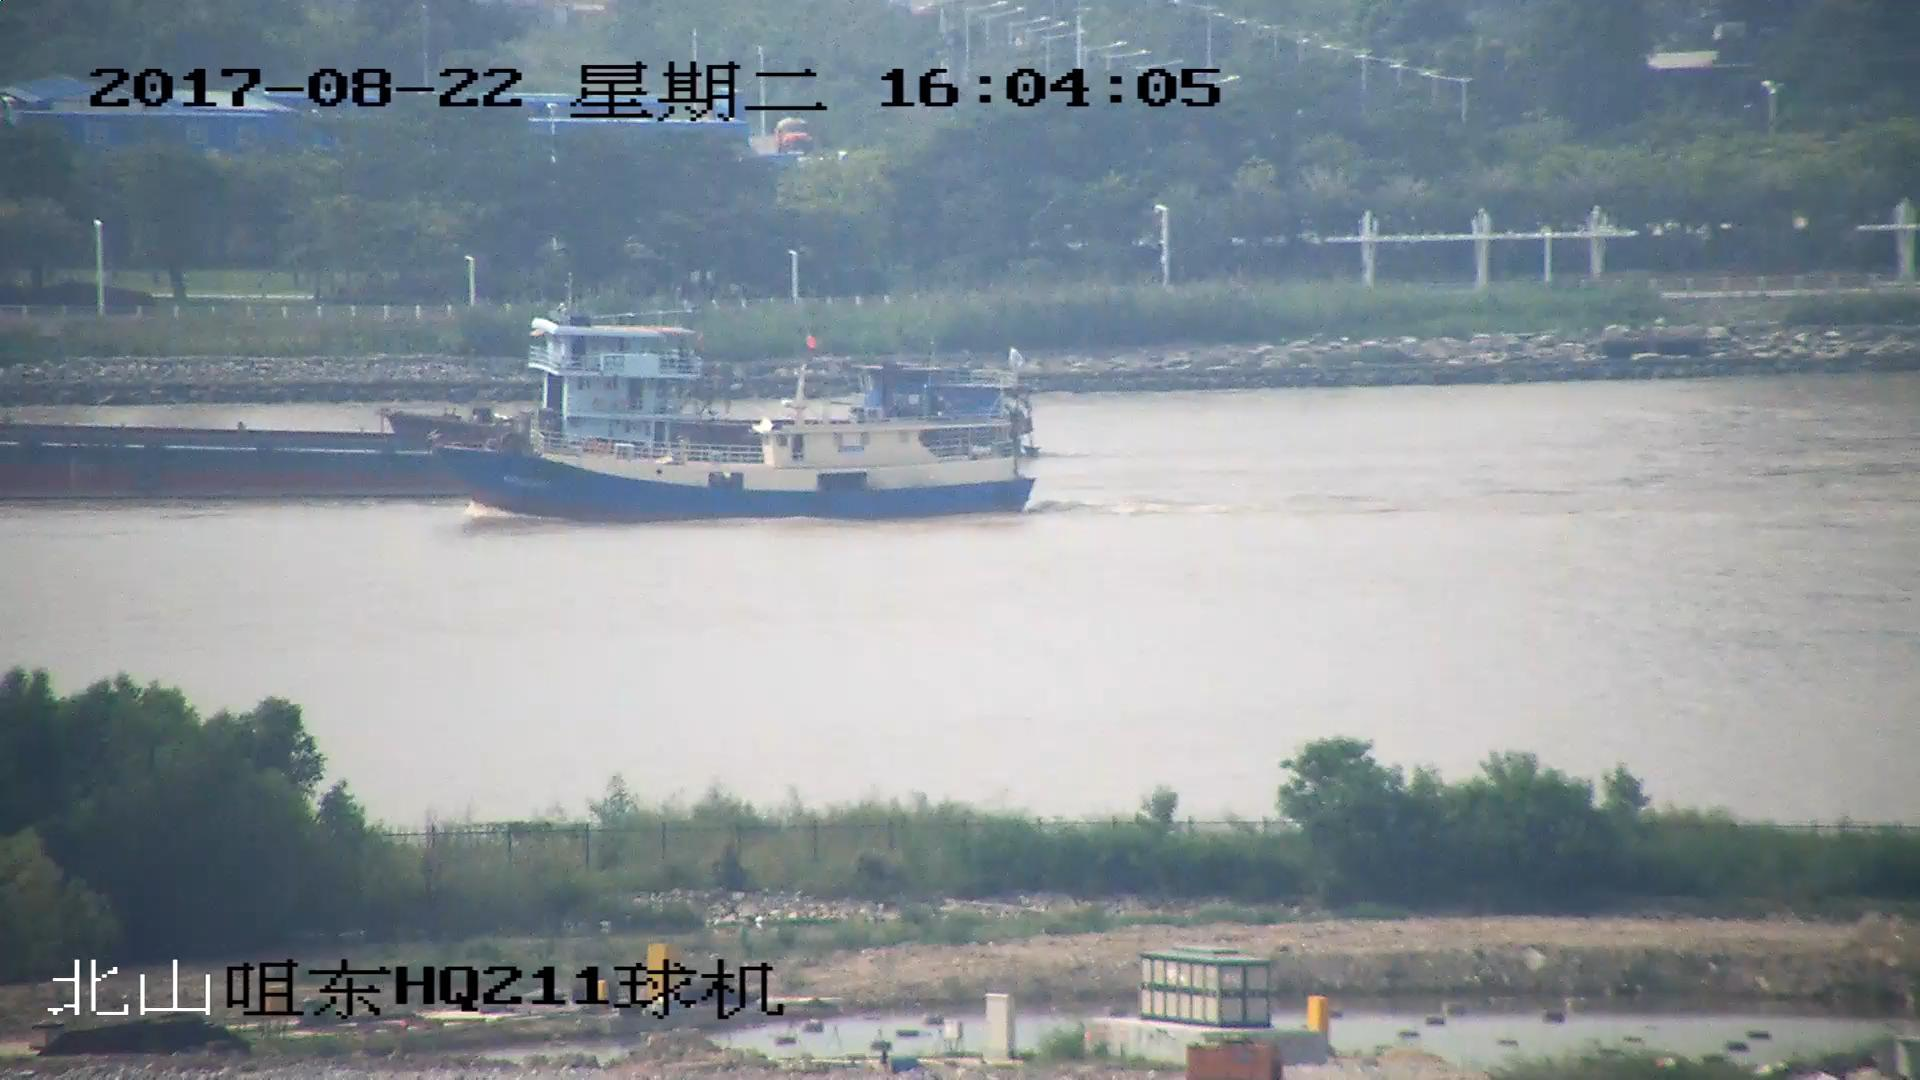Ship: (3, 319, 703, 502), (434, 326, 1039, 524)
